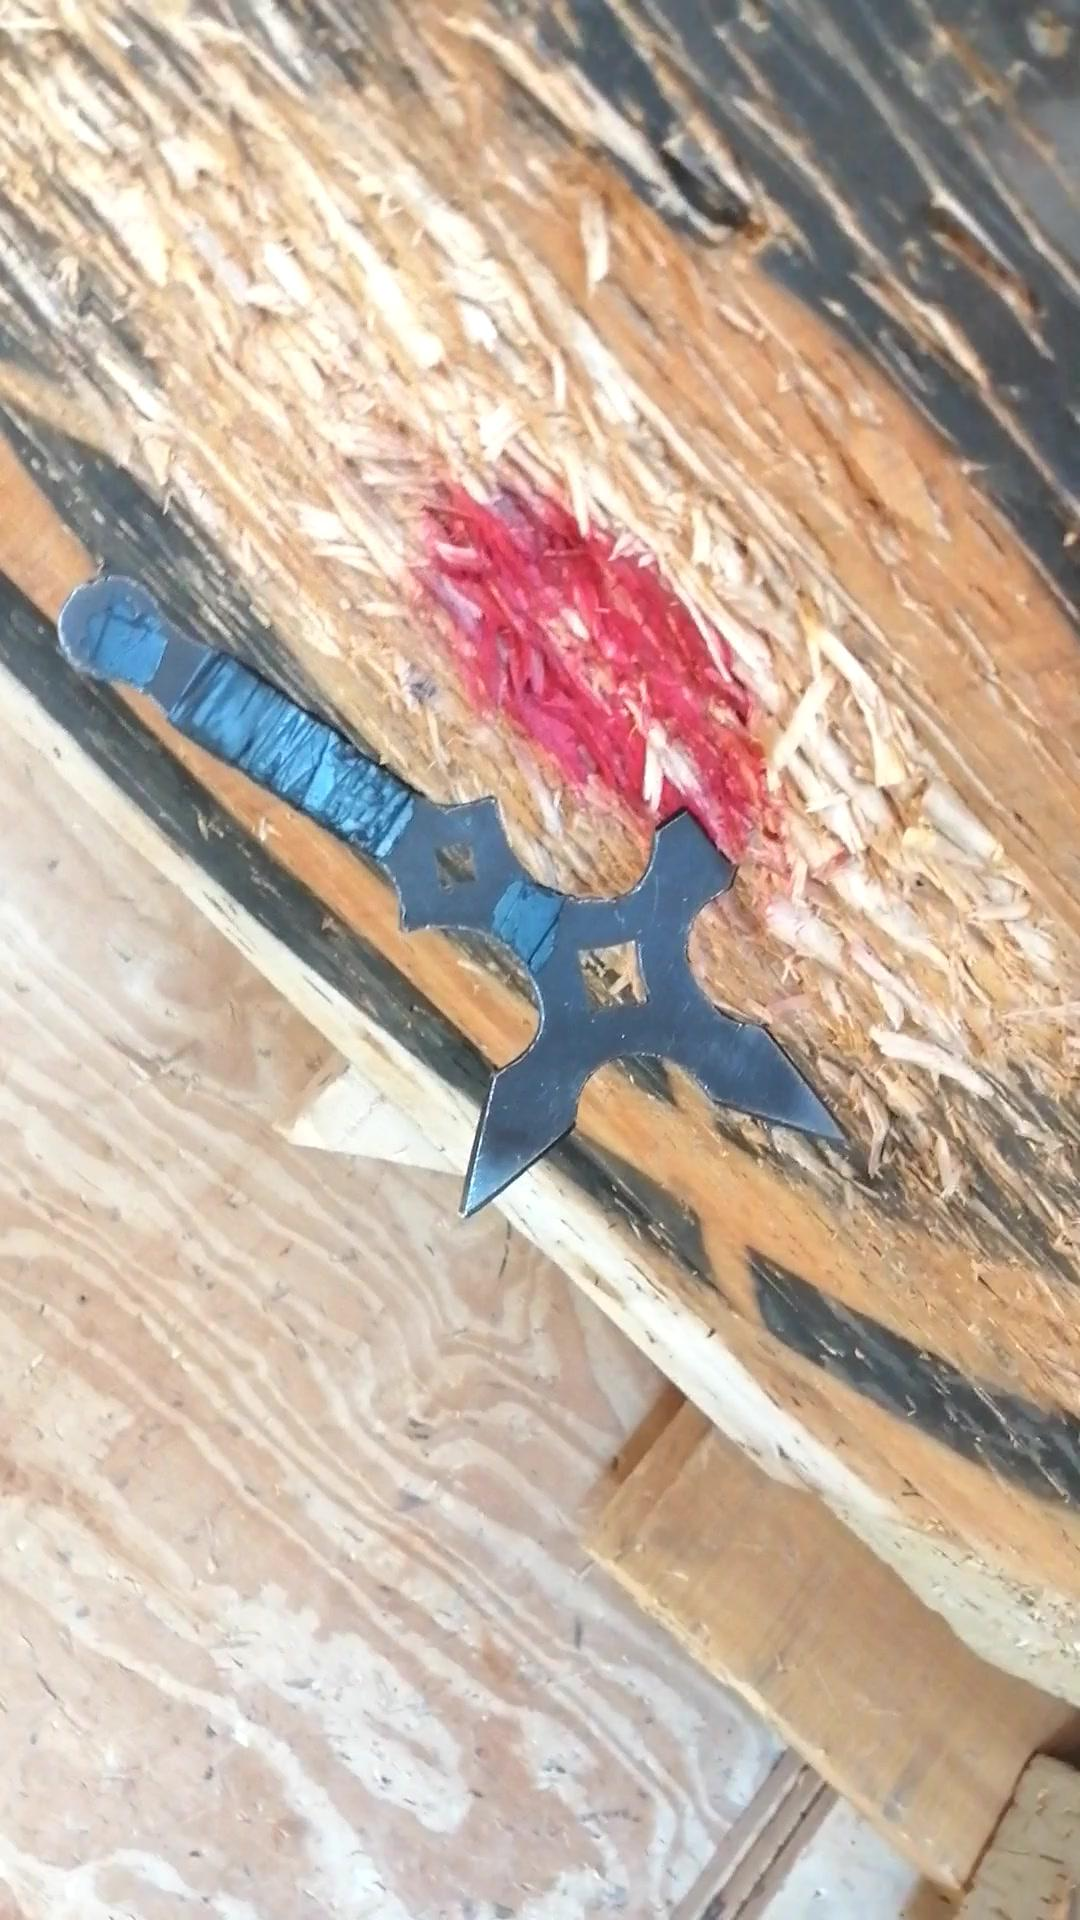Hand Axe: (55, 564, 862, 1225)
